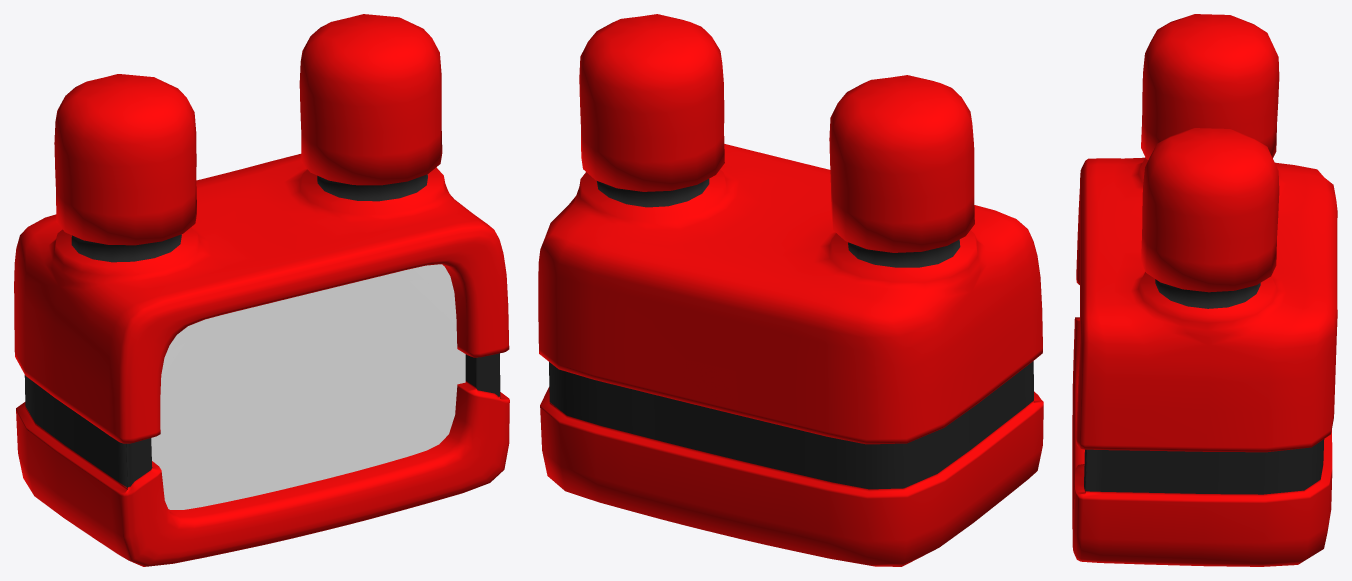
File: Rabbot_Head.fbx
The picture shows the model from 3 angles, left to right: view 1: azimuth 30°, elevation 25°; view 2: azimuth 150°, elevation 25°; view 3: azimuth 270°, elevation 25°; orthographic projection. The views are drawn at different scales.
Visible parts, largest first — view 1: Rabbot_Head; view 2: Rabbot_Head; view 3: Rabbot_Head.
Boxes of the visible parts, x1,y1,x2,y2 form: Rabbot_Head: (14,14,509,566); Rabbot_Head: (538,14,1043,566); Rabbot_Head: (1072,14,1337,566).
Bounding box in the file's own units: 32.05 × 33.69 × 19.76.
